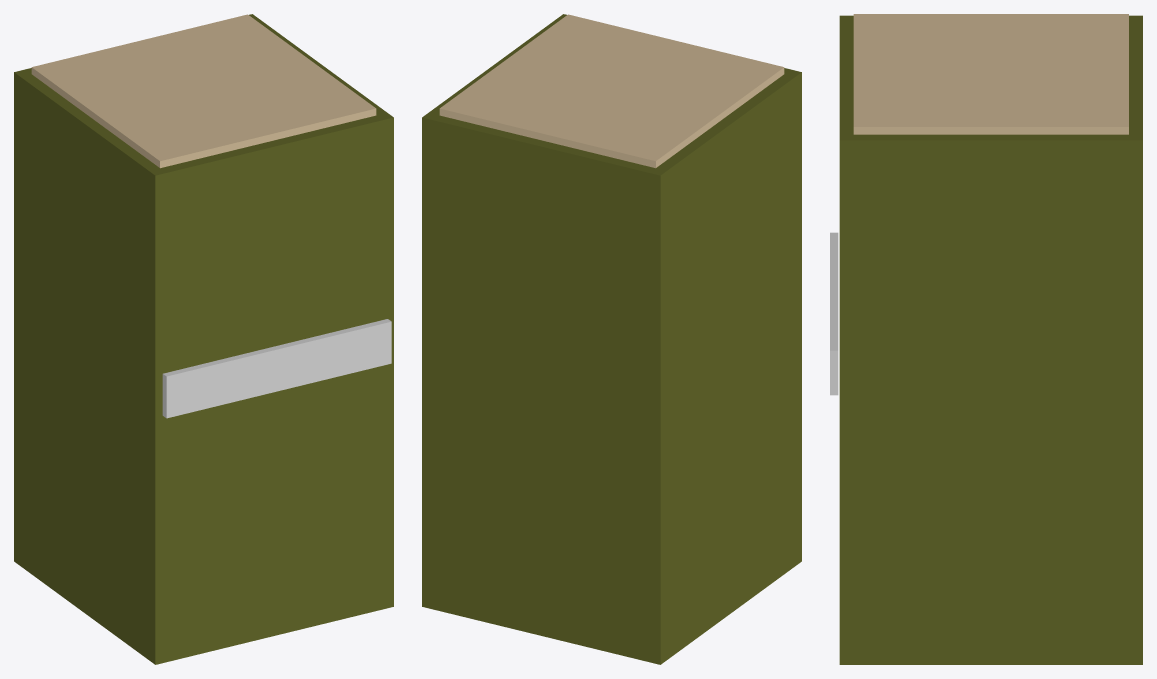
The model's file is SM_HescoCorto1_v1_Geotextil_e0_Sano_LOD1.fbx.
3 views of the same model, side by side, from view 1: azimuth 30°, elevation 25°; view 2: azimuth 150°, elevation 25°; view 3: azimuth 270°, elevation 25° (orthographic). The views are drawn at different scales.
Parts seen in each view (by area): view 1: SM_hesco_piezas_v44_LOD1; view 2: SM_hesco_piezas_v44_LOD1; view 3: SM_hesco_piezas_v44_LOD1.
Boxes of the visible parts, x1,y1,x2,y2 form: SM_hesco_piezas_v44_LOD1: (14,14,393,664); SM_hesco_piezas_v44_LOD1: (422,14,801,664); SM_hesco_piezas_v44_LOD1: (830,14,1142,664).
Bounding box in the file's own units: 1.07 × 2.13 × 1.13.
